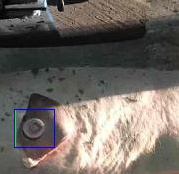text: (15, 109, 54, 147)
